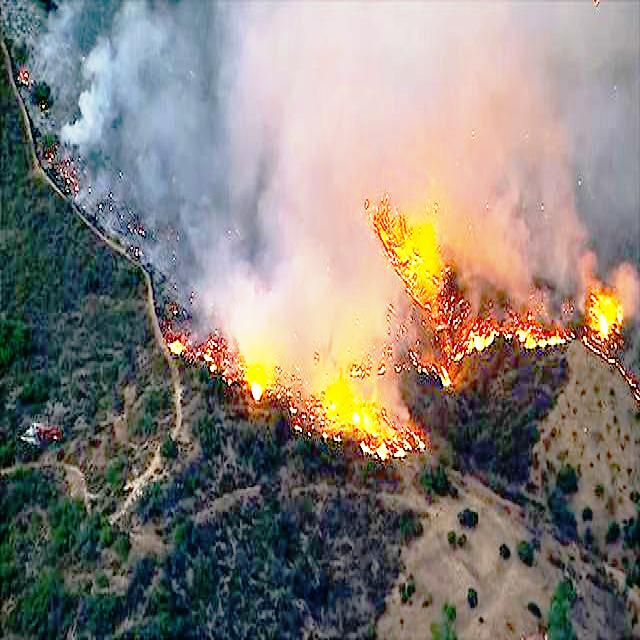api: (162, 307, 432, 460), (359, 183, 464, 328), (449, 311, 582, 366), (579, 277, 630, 353)
asap: (1, 1, 640, 441)
